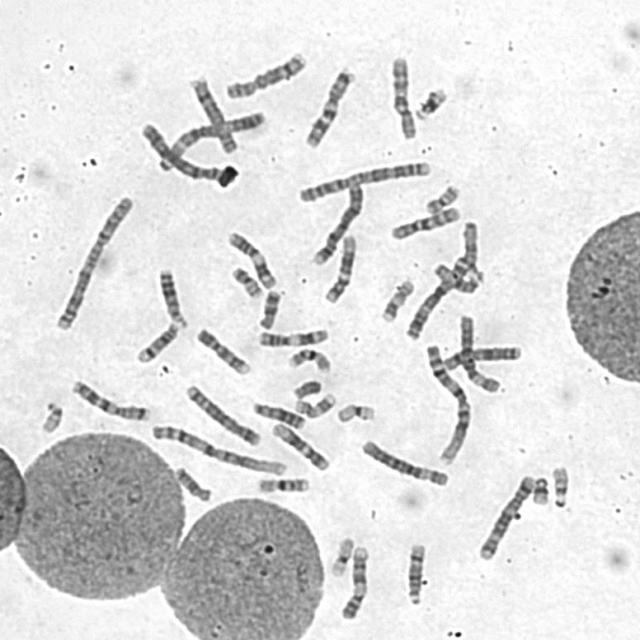A1: (150, 423, 290, 478), (422, 342, 473, 468)
A2: (55, 194, 136, 332), (295, 160, 433, 204)
A3: (158, 109, 266, 172), (405, 255, 469, 342)
B4: (138, 121, 222, 184), (310, 183, 365, 267)
B5: (478, 474, 535, 562), (184, 384, 263, 446)
C10: (389, 205, 462, 242), (390, 55, 418, 143)
C11: (223, 230, 278, 290), (256, 328, 330, 349)
C12: (269, 423, 331, 474), (323, 234, 359, 305)
C6: (360, 438, 450, 488), (457, 314, 502, 396)
C7: (304, 70, 354, 151), (71, 379, 153, 423)
C8: (224, 53, 310, 101), (188, 78, 240, 156)
C9: (194, 327, 253, 378), (340, 542, 370, 620)
D13: (250, 401, 308, 432), (156, 267, 184, 324)
D14: (133, 322, 180, 368), (403, 540, 428, 608)
D15: (431, 259, 486, 295), (462, 221, 482, 269)
E16: (283, 346, 334, 374), (257, 477, 310, 495)
E17: (379, 278, 416, 324), (294, 392, 338, 419)
E18: (170, 463, 213, 503), (258, 290, 284, 332)
F19: (329, 534, 355, 578), (335, 403, 379, 428)
F20: (228, 265, 265, 303), (424, 182, 463, 216)
G21: (413, 90, 450, 124), (532, 476, 549, 508)
G22: (36, 399, 67, 436), (551, 463, 570, 514)
X: (441, 345, 526, 372)
Y: (291, 378, 325, 401)
